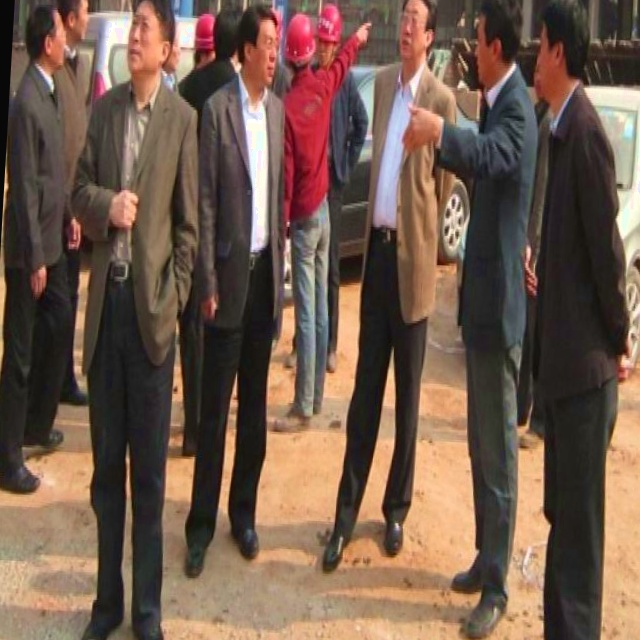Con_Casco: (283, 12, 318, 74)
Sin_Casco_Mascarrilla: (124, 0, 178, 83), (473, 0, 524, 86), (395, 0, 440, 68)
